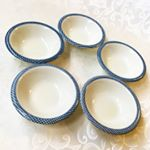other: (8, 62, 81, 127), (57, 11, 108, 51)
